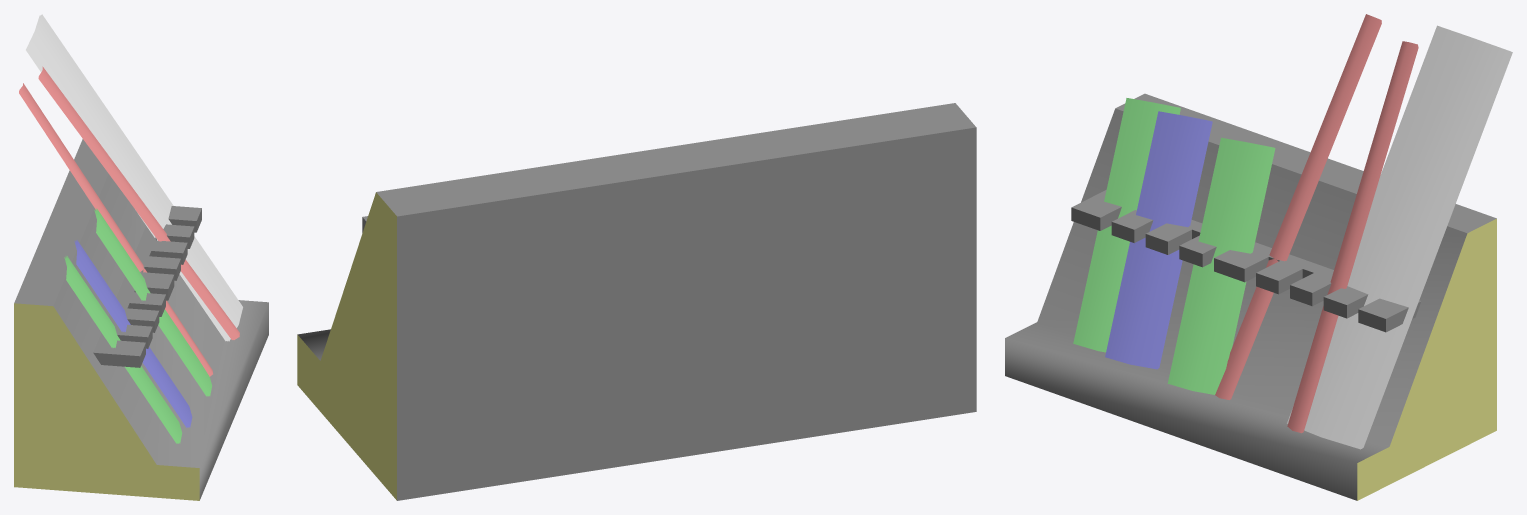
File: interior_B_orc_S__Orc_in_weapon_04.gltf
3 renders of one model, left to right at view 1: azimuth 30°, elevation 25°; view 2: azimuth 150°, elevation 25°; view 3: azimuth 270°, elevation 25°, orthographic. The views are drawn at different scales.
Parts seen in each view (by area): view 1: Orc_in_weapon_04; view 2: Orc_in_weapon_04; view 3: Orc_in_weapon_04.
Boxes of the visible parts, <box> form: Orc_in_weapon_04: <box>14,14,268,500</box>; Orc_in_weapon_04: <box>297,103,976,500</box>; Orc_in_weapon_04: <box>1005,14,1512,500</box>.
Bounding box in the file's own units: 0.5527 × 0.476 × 0.6074.
